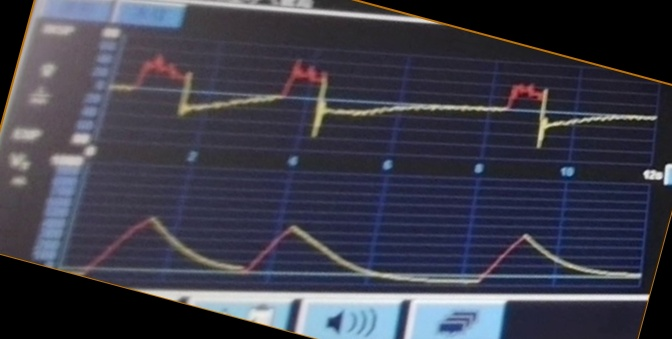Accumulation Flow: (120, 50, 606, 154)
Volume: (79, 196, 630, 289)
